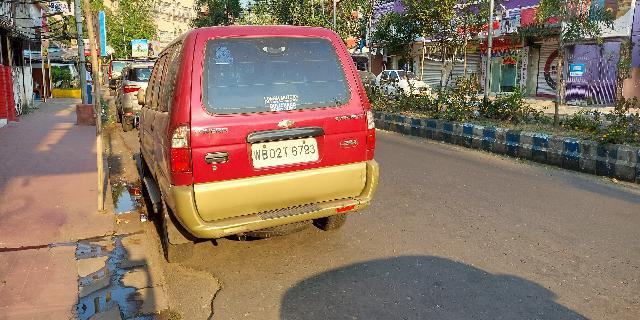Car: (136, 23, 382, 264), (116, 61, 149, 133)
